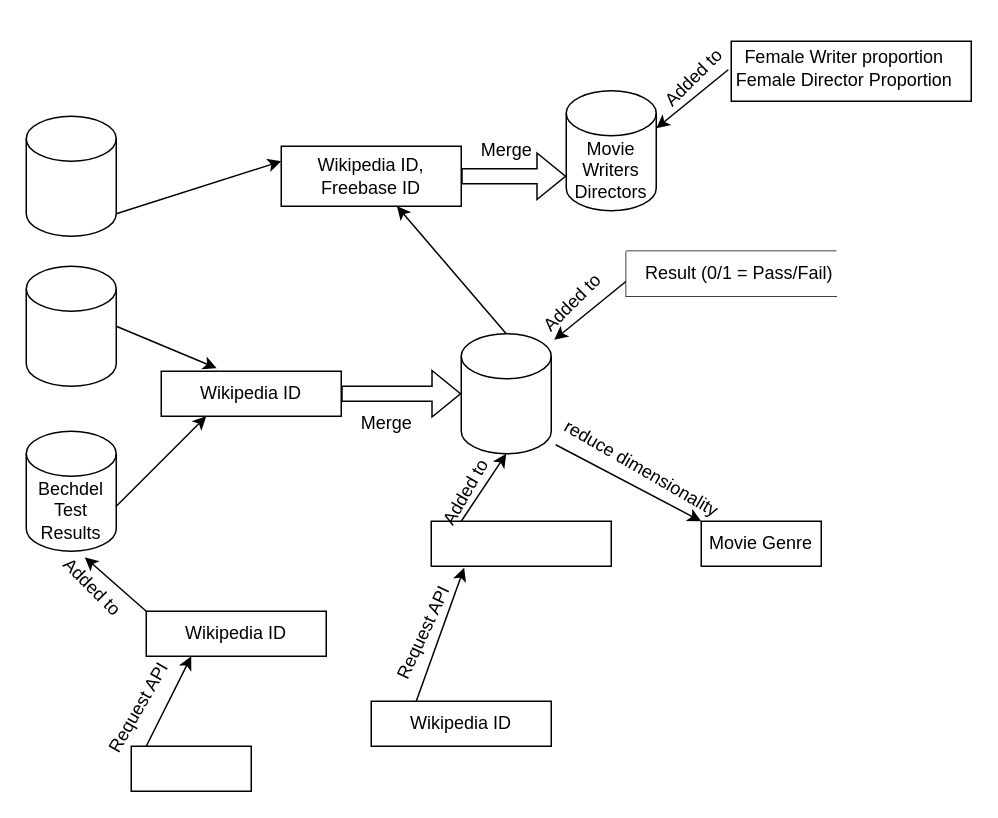
Some shapes in this 998 by 818 pixel diagram are drawn without their labels. Here are the shapes that lost their labels. From the top down, the centre of each, then its label:
At point (70, 175): "All Director Genders2".
At point (70, 325): "CMU Metadata".
At point (505, 393): "Merged Dataframe".
At point (520, 543): "Production Company".
At point (190, 768): "year + title".
